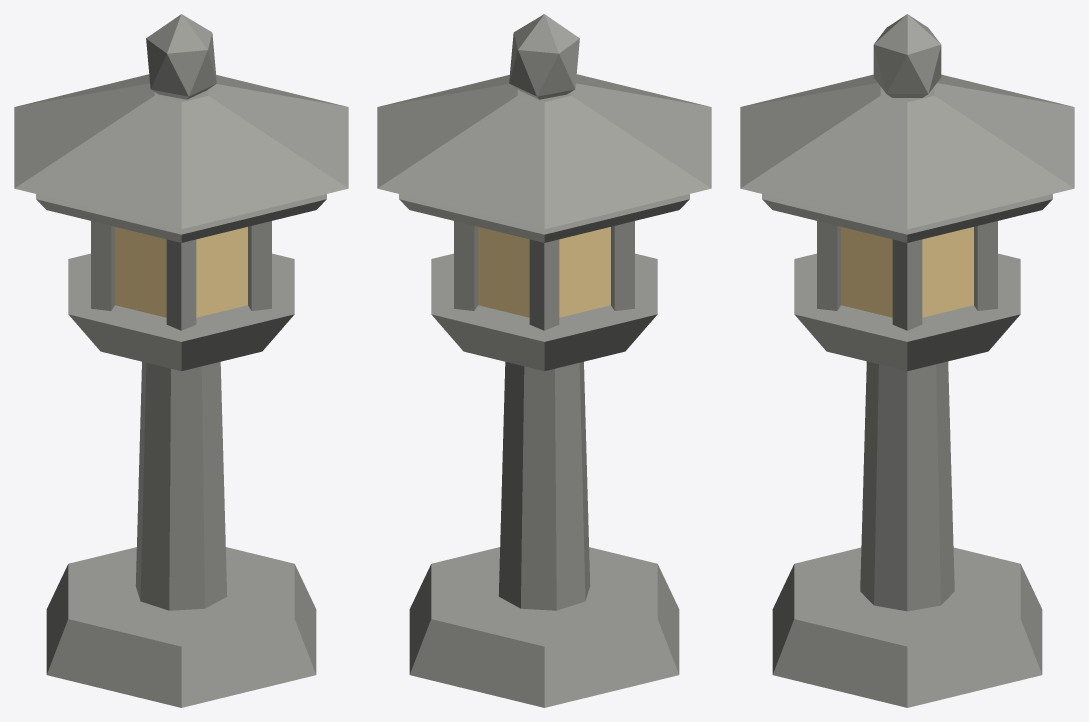
The model's file is lantern.fbx.
3 renders of one model, left to right at view 1: azimuth 30°, elevation 25°; view 2: azimuth 150°, elevation 25°; view 3: azimuth 270°, elevation 25°, orthographic.
Visible parts, largest first — view 1: Lantern_Stone, Lantern_Paper; view 2: Lantern_Stone, Lantern_Paper; view 3: Lantern_Stone, Lantern_Paper.
Boxes of the visible parts, left/top/right/bottom form: Lantern_Stone: left=14, top=14, right=348, bottom=707; Lantern_Paper: left=115, top=227, right=247, bottom=317; Lantern_Stone: left=377, top=14, right=711, bottom=707; Lantern_Paper: left=478, top=227, right=610, bottom=317; Lantern_Stone: left=740, top=14, right=1074, bottom=707; Lantern_Paper: left=841, top=227, right=973, bottom=317.
Bounding box in the file's own units: 3.1 × 5.57 × 2.68.
